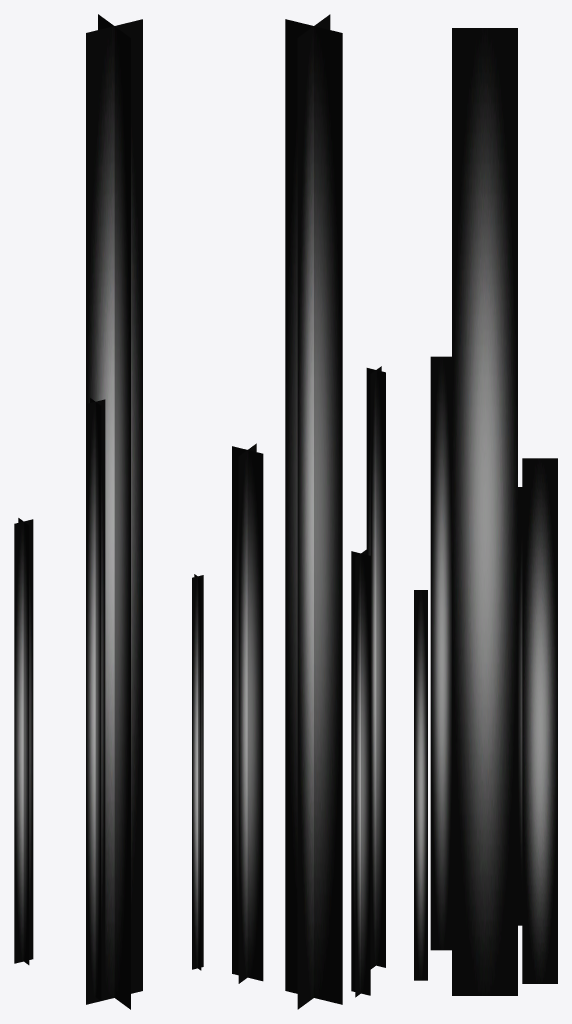
The model's file is vfx_kurp_0209.dae.
3 views of the same model, side by side, from view 1: azimuth 30°, elevation 25°; view 2: azimuth 150°, elevation 25°; view 3: azimuth 270°, elevation 25° (orthographic).
Visible parts, largest first — view 1: vfx_kurp_0209; view 2: vfx_kurp_0209; view 3: vfx_kurp_0209.
Part boxes in pixels (bbox=[...]): vfx_kurp_0209: bbox=[14, 14, 203, 1009]; vfx_kurp_0209: bbox=[232, 14, 385, 1009]; vfx_kurp_0209: bbox=[414, 28, 557, 995].
Bounding box in the file's own units: 5.26 × 4.85 × 36.03.
Materials: 1 (1 with a texture image).
